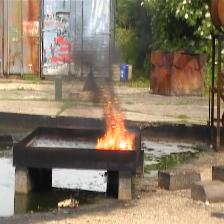fire: (96, 87, 135, 150)
